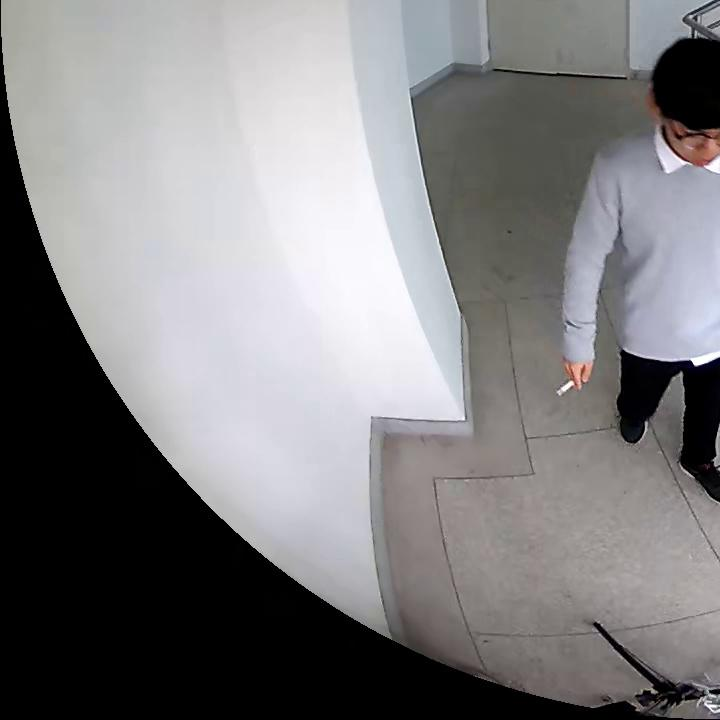handsmoke: (551, 353, 602, 396)
mouthwithoutsmoke: (645, 33, 720, 170)
